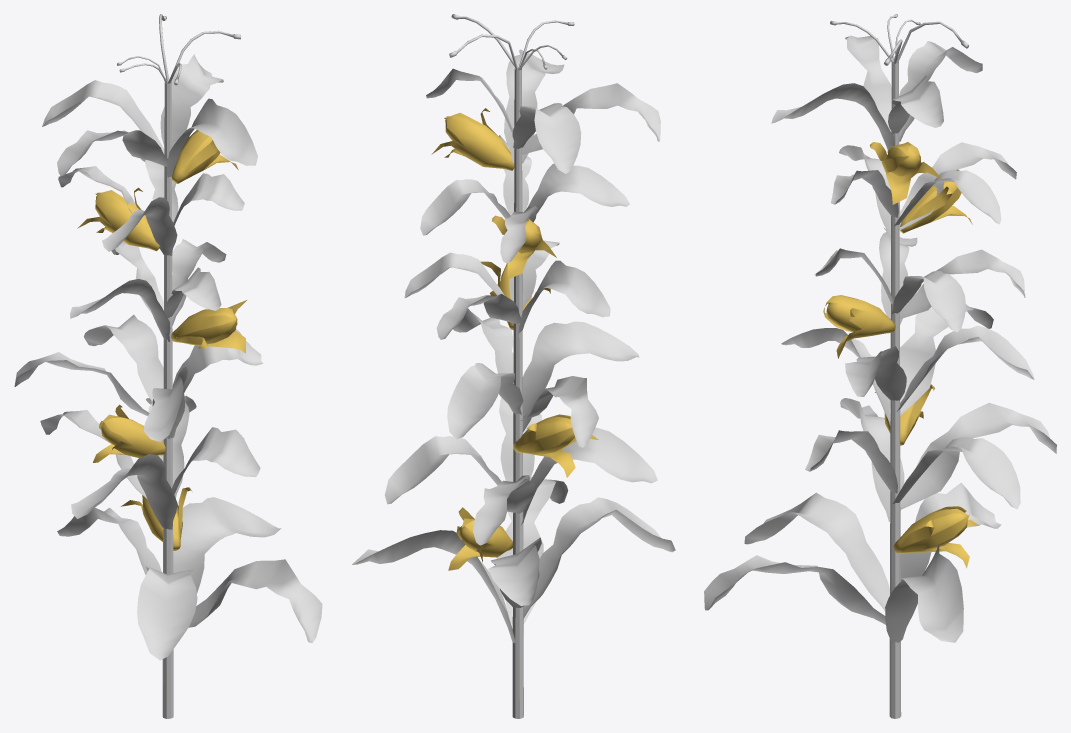
Rendered from Veg_cornBig.fbx.
3 renders of one model, left to right at view 1: azimuth 30°, elevation 25°; view 2: azimuth 150°, elevation 25°; view 3: azimuth 270°, elevation 25°, orthographic. The views are drawn at different scales.
Visible parts, largest first — view 1: Plane.028, Plane.006, Plane.007, Cylinder.001, Plane.021, Plane.030, Plane.004, Plane.029, Plane.020, Plane.019, Plane.022, hojaz mazorca.007 (+19 smaller); view 2: Cylinder.001, Plane.013, Plane.028, Plane.004, Plane.019, Plane.030, Plane.027, Plane.006, hojaz mazorca.006, Plane.017, Plane.025, Plane.005 (+19 smaller); view 3: Plane.006, Plane.028, Cylinder.001, Plane.031, Plane.027, Plane.007, Plane.014, Plane.023, Plane.004, Plane.005, Plane.012, hojaz mazorca.005 (+21 smaller).
Part boxes in pixels (x1,y1,x2,y2): Plane.028: (137,565,197,660); Plane.006: (173,497,281,593); Plane.007: (189,559,322,643); Cylinder.001: (162,82,173,718); Plane.021: (166,98,257,177); Plane.030: (71,454,177,529); Plane.004: (84,314,163,401); Plane.029: (171,427,260,494); Plane.020: (160,54,223,147); Plane.019: (42,80,164,154); Plane.022: (57,130,167,176); hojaz mazorca.007: (77,187,159,251); Cylinder.001: (512,67,523,718); Plane.013: (522,321,639,431); Plane.028: (522,497,675,619); Plane.004: (447,363,523,439); Plane.019: (512,103,581,173); Plane.030: (521,427,657,525); Plane.027: (385,436,501,504); Plane.006: (352,530,515,643); hojaz mazorca.006: (431,108,514,170); Plane.017: (527,163,629,214); Plane.025: (518,260,610,333); Plane.005: (488,537,541,607); Plane.006: (885,544,963,642); Plane.028: (744,492,889,611); Cylinder.001: (889,62,901,718); Plane.031: (900,402,1056,509); Plane.027: (893,437,1020,509); Plane.007: (704,555,885,624); Plane.014: (890,304,993,415); Plane.023: (891,271,965,332); Plane.004: (897,325,1034,411); Plane.005: (900,482,1001,581); Plane.012: (845,346,906,400); hojaz mazorca.005: (893,506,979,568).
Size of the model in its own units: 139 by 305 by 121.
